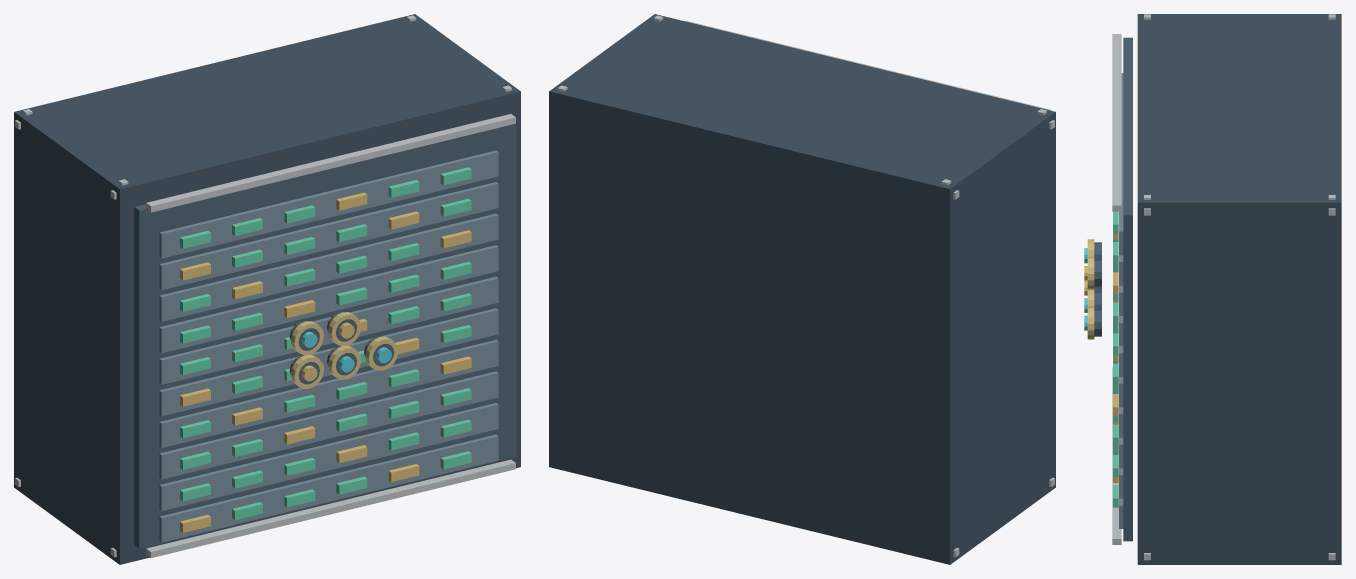
File: 55_L81_MissionSafetyPLCRack.glb
The picture shows the model from 3 angles, left to right: view 1: azimuth 30°, elevation 25°; view 2: azimuth 150°, elevation 25°; view 3: azimuth 270°, elevation 25°; orthographic projection. The views are drawn at different scales.
Visible parts, largest first — view 1: MissionSafetyPLCRack_Node_0000, MissionSafetyPLCRack_Node_0009, MissionSafetyPLCRack_Node_0010, MissionSafetyPLCRack_Node_0017, MissionSafetyPLCRack_Node_0059, MissionSafetyPLCRack_Node_0066, MissionSafetyPLCRack_Node_0052, MissionSafetyPLCRack_Node_0024, MissionSafetyPLCRack_Node_0073, MissionSafetyPLCRack_Node_0031, MissionSafetyPLCRack_Node_0045, MissionSafetyPLCRack_Node_0038 (+2 smaller); view 2: MissionSafetyPLCRack_Node_0000; view 3: MissionSafetyPLCRack_Node_0000, MissionSafetyPLCRack_Node_0009, MissionSafetyPLCRack_Node_0081, MissionSafetyPLCRack_Node_0073, MissionSafetyPLCRack_Node_0080.
Boxes of the visible parts, box(x1,y1,x2,y2) form: MissionSafetyPLCRack_Node_0000: box(14, 14, 520, 564); MissionSafetyPLCRack_Node_0009: box(134, 118, 516, 548); MissionSafetyPLCRack_Node_0010: box(159, 434, 498, 542); MissionSafetyPLCRack_Node_0017: box(159, 403, 498, 510); MissionSafetyPLCRack_Node_0059: box(159, 213, 498, 321); MissionSafetyPLCRack_Node_0066: box(159, 182, 498, 289); MissionSafetyPLCRack_Node_0052: box(159, 245, 498, 353); MissionSafetyPLCRack_Node_0024: box(159, 371, 498, 479); MissionSafetyPLCRack_Node_0073: box(159, 150, 498, 258); MissionSafetyPLCRack_Node_0031: box(159, 340, 498, 447); MissionSafetyPLCRack_Node_0045: box(159, 276, 498, 384); MissionSafetyPLCRack_Node_0038: box(159, 308, 498, 416); MissionSafetyPLCRack_Node_0000: box(549, 14, 1055, 564); MissionSafetyPLCRack_Node_0000: box(1137, 14, 1341, 564); MissionSafetyPLCRack_Node_0009: box(1123, 37, 1132, 541); MissionSafetyPLCRack_Node_0081: box(1112, 34, 1121, 211); MissionSafetyPLCRack_Node_0073: box(1119, 73, 1123, 255); MissionSafetyPLCRack_Node_0080: box(1112, 367, 1121, 544).
Bounding box in the file's own units: 1.64 × 1.47 × 0.9345.
